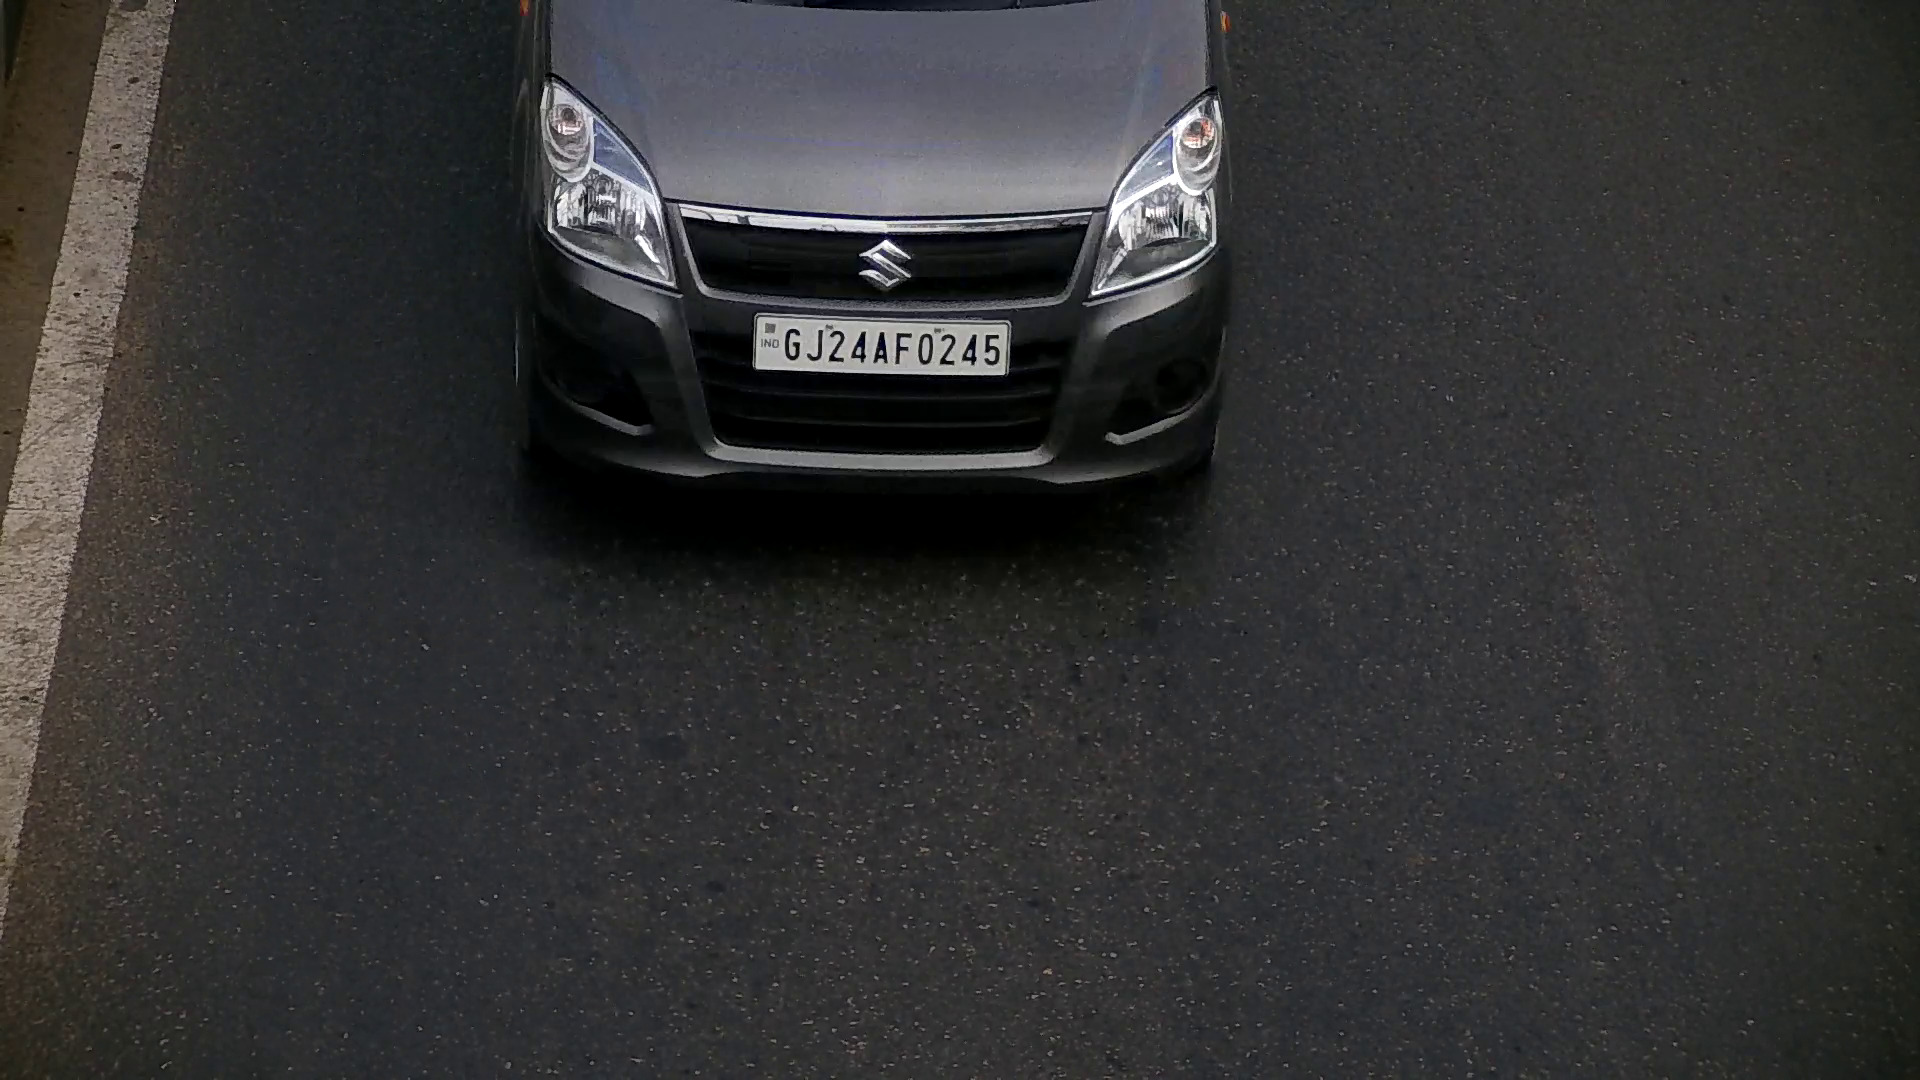numberplate: (751, 310, 1014, 375)
